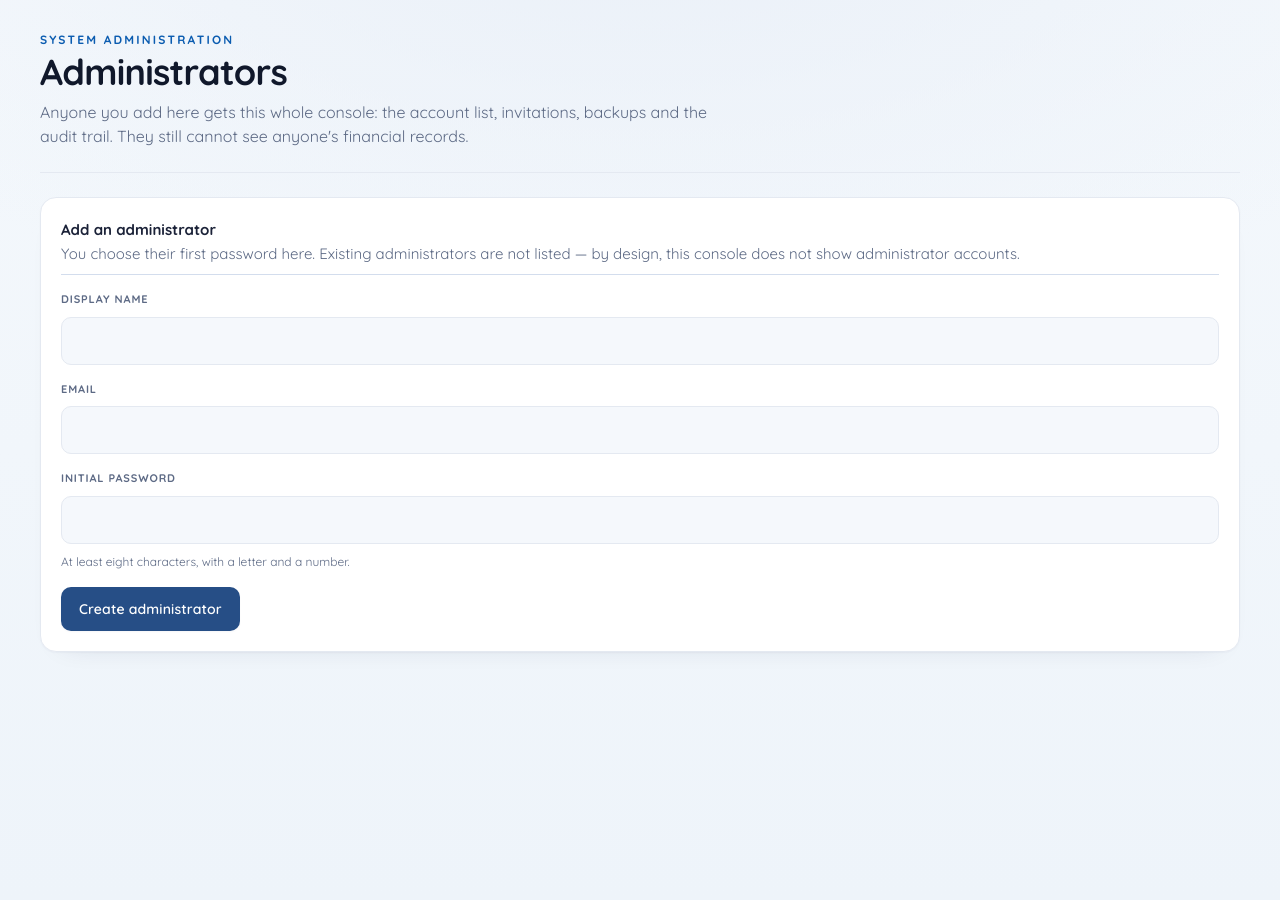
AdminAdministratorsPage › lets an administrator create another administrator
Type "Operations Two" into the field labelled "Display name".
click(640, 341); type("Operations Two")  # box 61,317 -> 1219,365
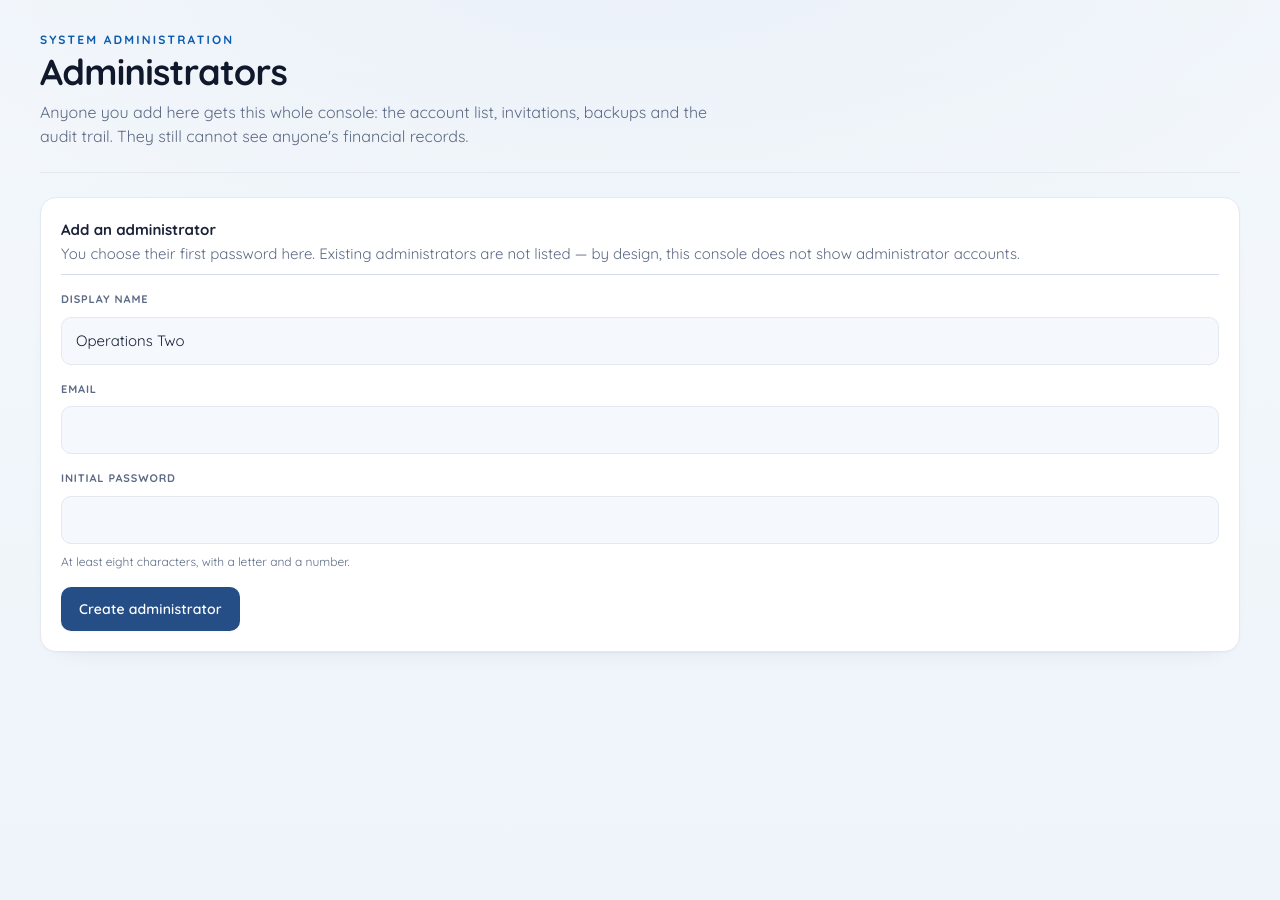
Type "ops2@example.com" into the field labelled "Email".
click(640, 430); type("ops2@example.com")  # box 61,406 -> 1219,454
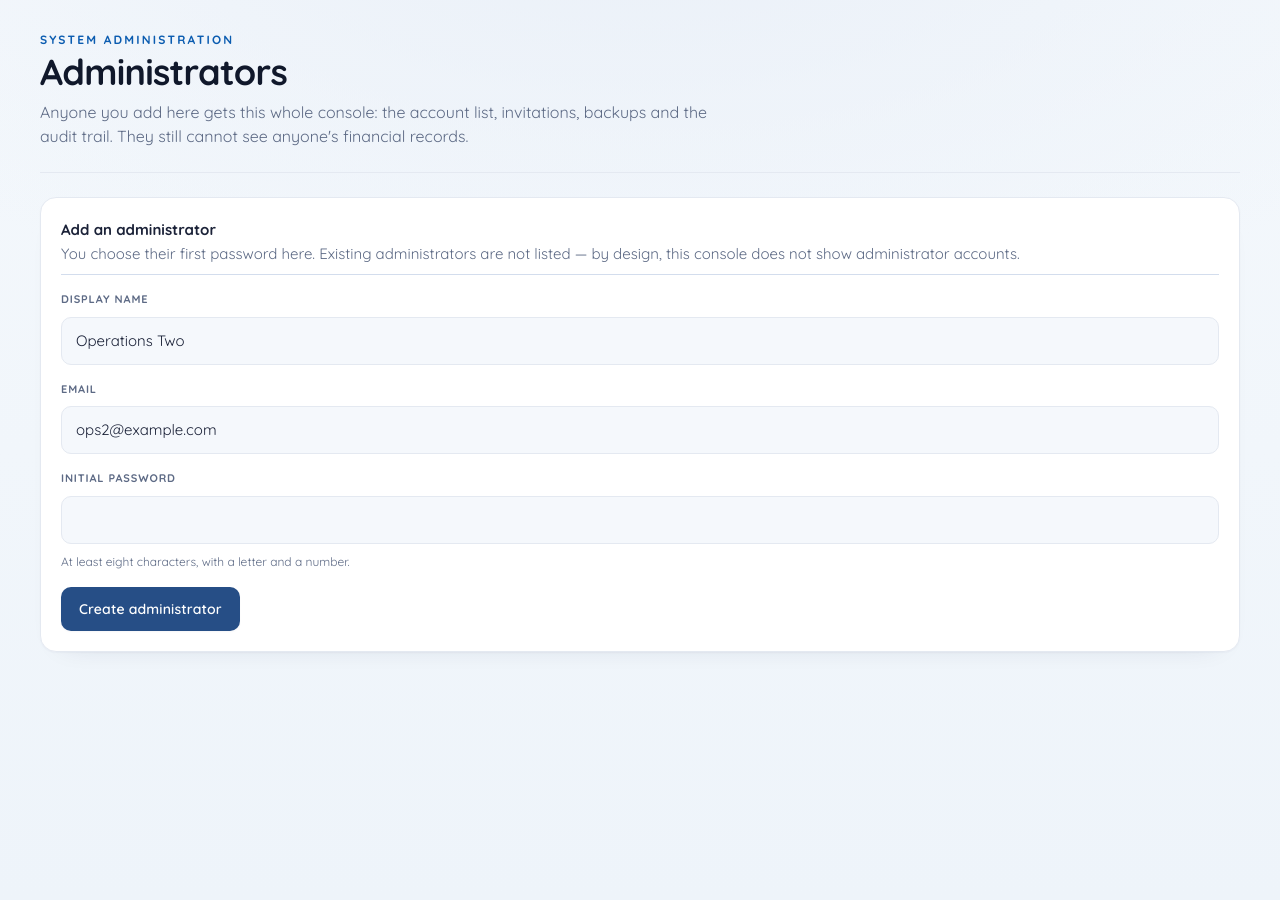
Type "SafePassword2026" into the password field labelled "Initial password".
click(640, 520); type("SafePassword2026")  # box 61,496 -> 1219,544
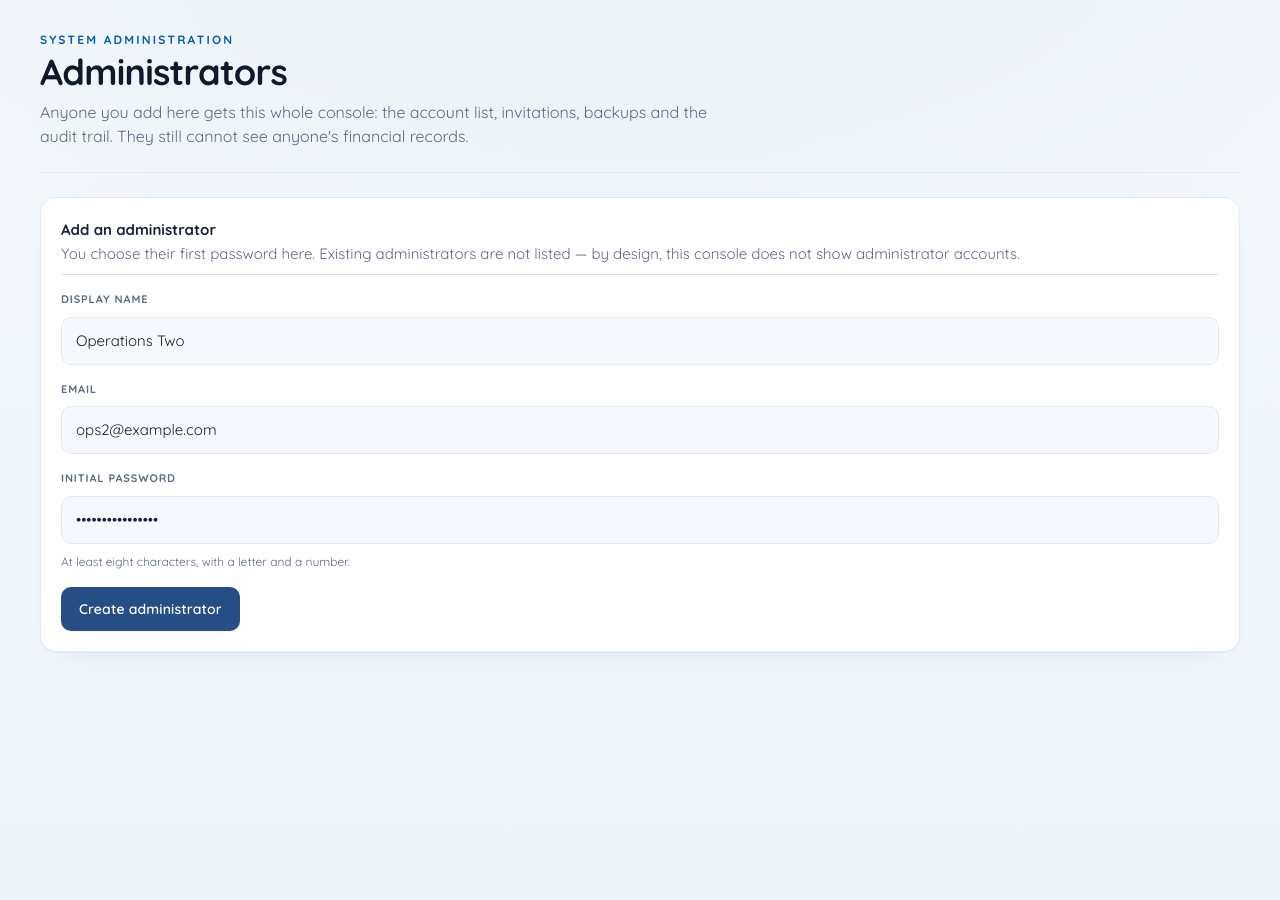
Click the button "Create administrator".
click(150, 609)  # box 61,587 -> 240,631
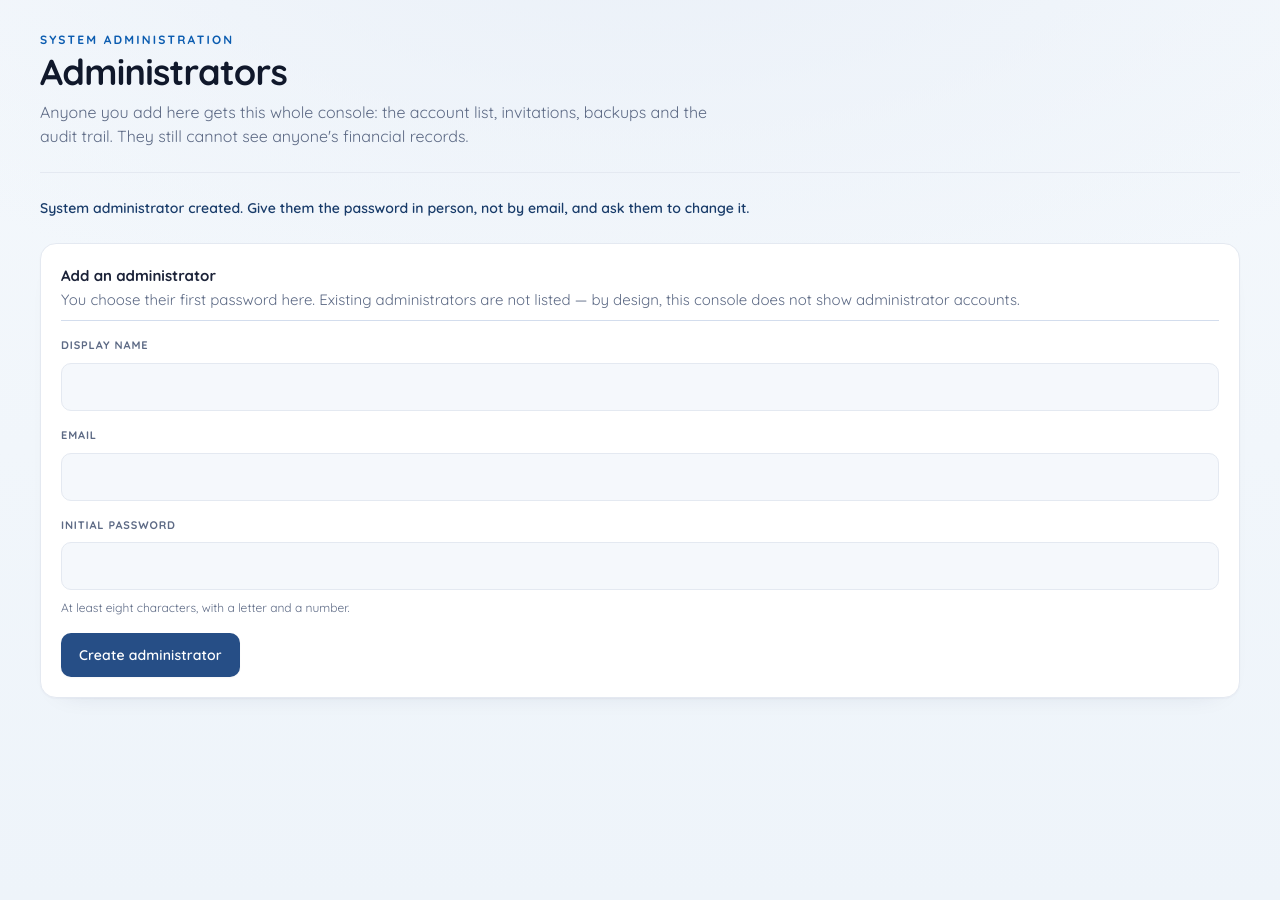
Expected: the text "System administrator created" is shown, 40,199 -> 750,217
